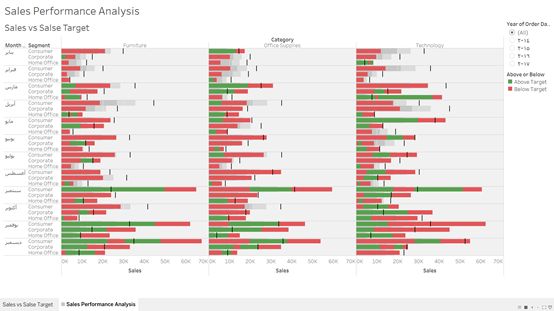

The page's visual inventory and layout, read from the dashboard file:
{"tool":"tableau","page":{"name":"Sales Performance Analysis","canvas":[1000,1000],"units":"permille","ordinal":0},"visuals":[{"type":"worksheet","box":[0,0,1000,1000]},{"type":"worksheet","param":"vert","box":[5,9.8,990.1,980.4]},{"type":"worksheet","box":[5,9.8,990.1,70.9]},{"type":"worksheet","param":"vert","box":[5,80.7,990.1,909.5]},{"type":"worksheet","box":[5,80.7,990.1,909.5]},{"type":"worksheet","param":"horz","box":[5,80.7,990.1,909.5]},{"type":"worksheet","box":[5,80.7,890.9,909.5]},{"type":"worksheet","title":"Sales vs Salse Target","mark":"Automatic","rows":["Order Date","Segment"],"cols":["Category","Sales"],"box":[5,80.7,890.9,909.5]},{"type":"worksheet","param":"vert","box":[895.9,80.7,99.2,909.5]},{"type":"worksheet","title":"Sales vs Salse Target","mark":"Automatic","rows":["Order Date","Segment"],"cols":["Category","Sales"],"param":"[federated.0m3ekwj0fjnhtw1exukuh0080ca8].[yr:Order Date:ok]","box":[895.9,80.7,99.2,213.9]},{"type":"worksheet","title":"Sales vs Salse Target","mark":"Automatic","rows":["Order Date","Segment"],"cols":["Category","Sales"],"param":"[federated.0m3ekwj0fjnhtw1exukuh0080ca8].[usr:Calculation_355221470426488833:nk]","box":[895.9,294.6,99.2,102.7]}]}

Visuals, with their boxes on the dashboard's canvas, which has no fixed pixel size, in thousandths of its width and height (x1, y1, x2, y2). These are canvas units, not pixel positions in the 554x311 screenshot, which may show the page scaled, cropped or inside an application window:
worksheet: <region>0, 0, 1000, 1000</region>
worksheet: <region>5, 10, 995, 990</region>
worksheet: <region>5, 10, 995, 81</region>
worksheet: <region>5, 81, 995, 990</region>
worksheet: <region>5, 81, 995, 990</region>
worksheet: <region>5, 81, 995, 990</region>
worksheet: <region>5, 81, 896, 990</region>
"Sales vs Salse Target" worksheet: <region>5, 81, 896, 990</region>
worksheet: <region>896, 81, 995, 990</region>
"Sales vs Salse Target" worksheet: <region>896, 81, 995, 295</region>
"Sales vs Salse Target" worksheet: <region>896, 295, 995, 397</region>
